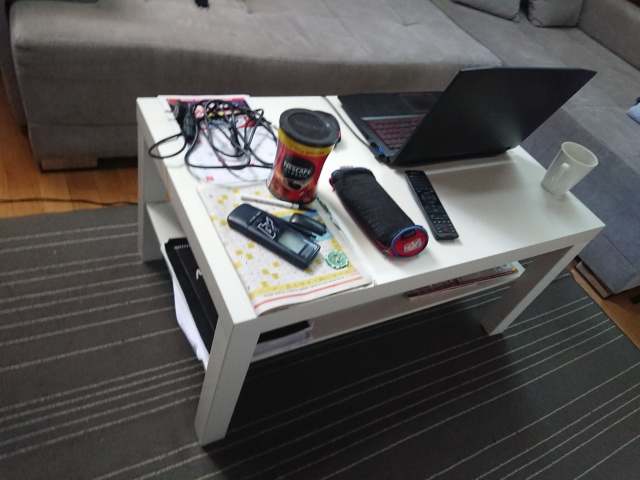Nescafe Classic 225g: (263, 106, 342, 206)
